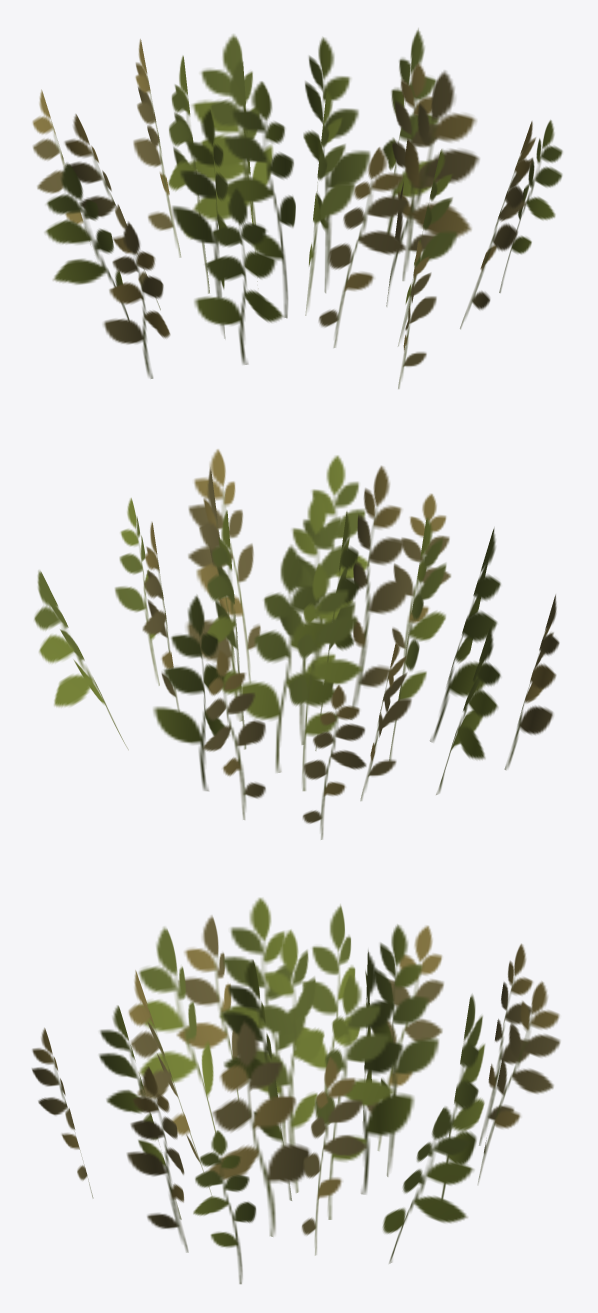
Rendered from Green_Patch_2.glb.
The picture shows the model from 3 angles, top to bottom: view 1: azimuth 30°, elevation 25°; view 2: azimuth 150°, elevation 25°; view 3: azimuth 270°, elevation 25°; orthographic projection. The views are drawn at different scales.
Parts seen in each view (by area): view 1: Green_Patch_2; view 2: Green_Patch_2; view 3: Green_Patch_2.
Boxes of the visible parts, x1,y1,x2,y2 form: Green_Patch_2: [32, 28, 562, 388]; Green_Patch_2: [34, 449, 559, 839]; Green_Patch_2: [32, 898, 560, 1284].
Bounding box in the file's own units: 1.33 × 0.706 × 1.35.
1 material, 1 textured.
